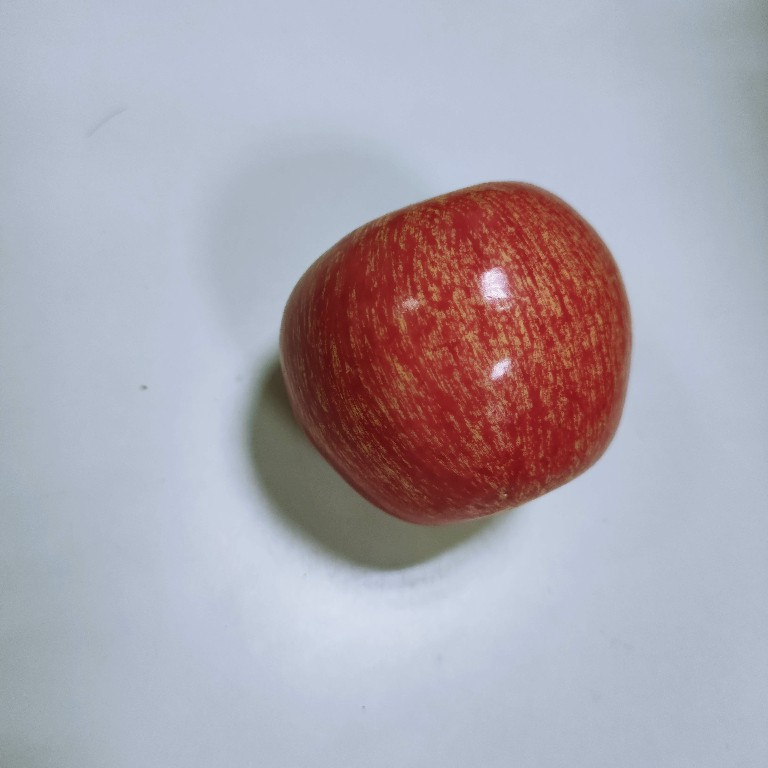fruit_apple: (277, 174, 636, 533)
